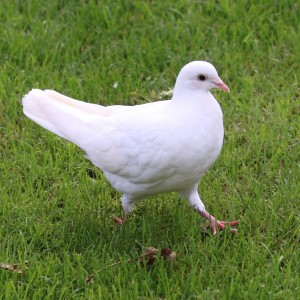pigeon: (20, 59, 243, 237)
